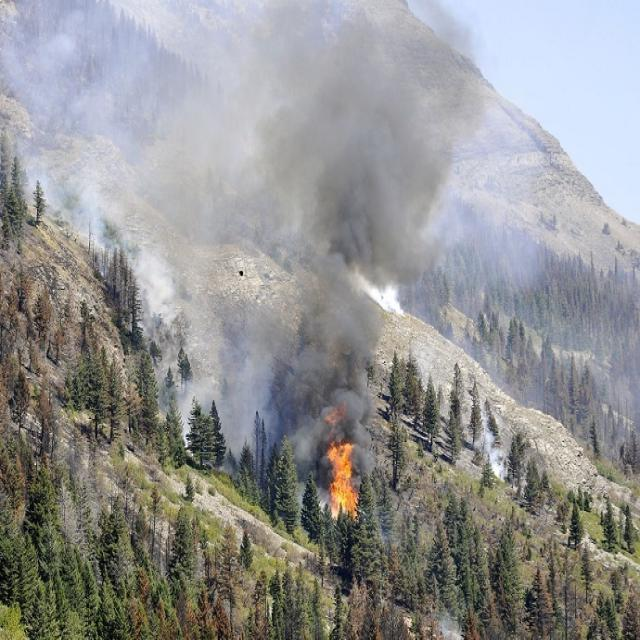Fire: (324, 440, 366, 524)
Smoke: (232, 8, 452, 428), (23, 11, 218, 233)
